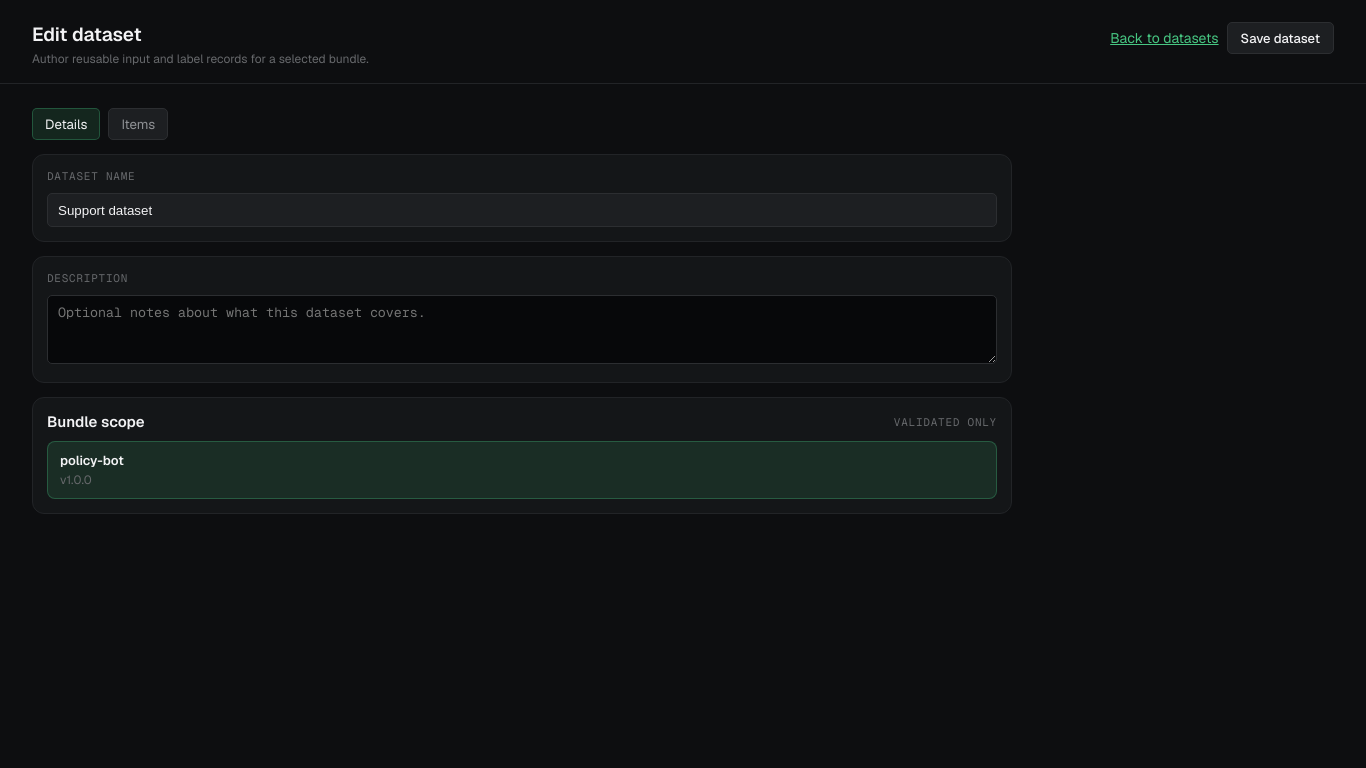
DatasetsPage › duplicates the selected dataset item in the editor
Click the tab "Items". click: click(138, 124)
box: [108,108,168,140]
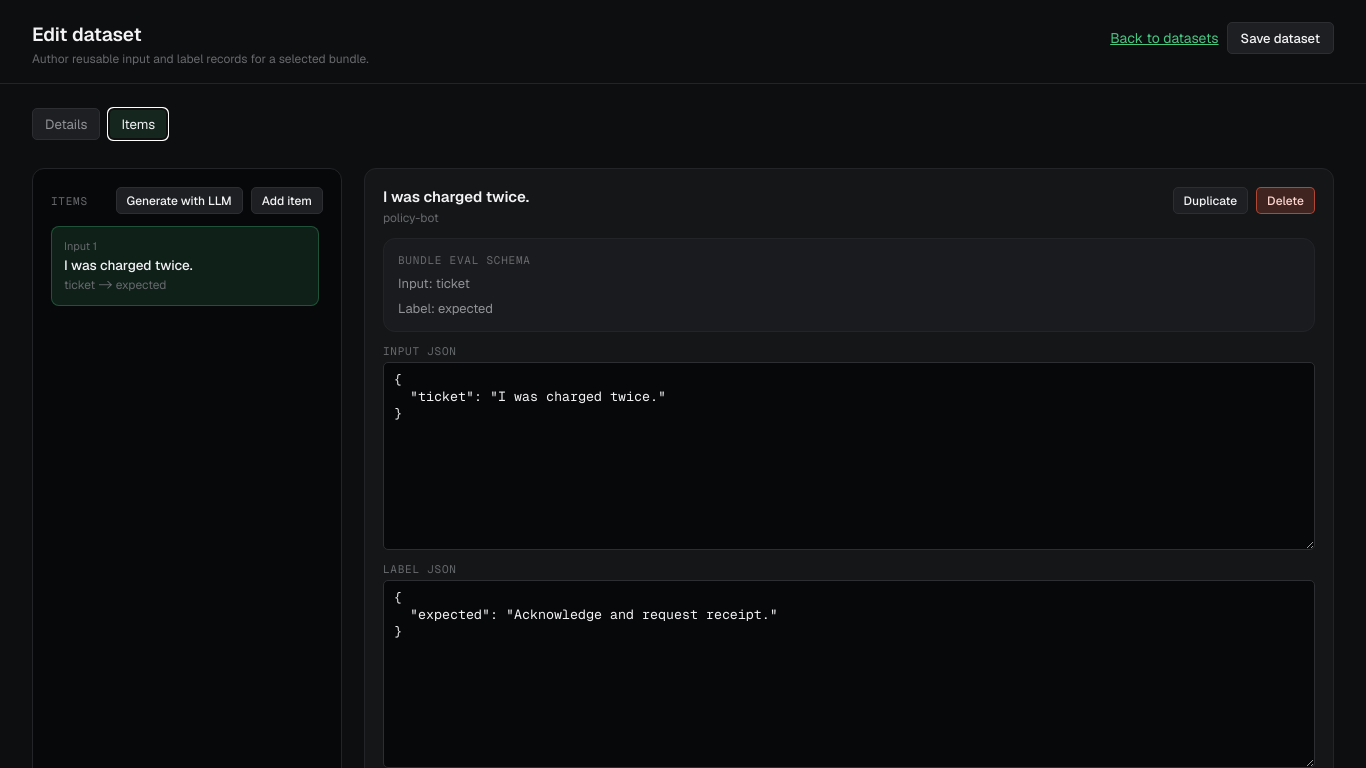
Expected: the text box showing "\"ticket\": \"I was charged twice.\"" below "Input JSON" is shown, [383,362,1315,550]
Click the button "Duplicate". click: click(1210, 200)
box: [1172,187,1248,214]
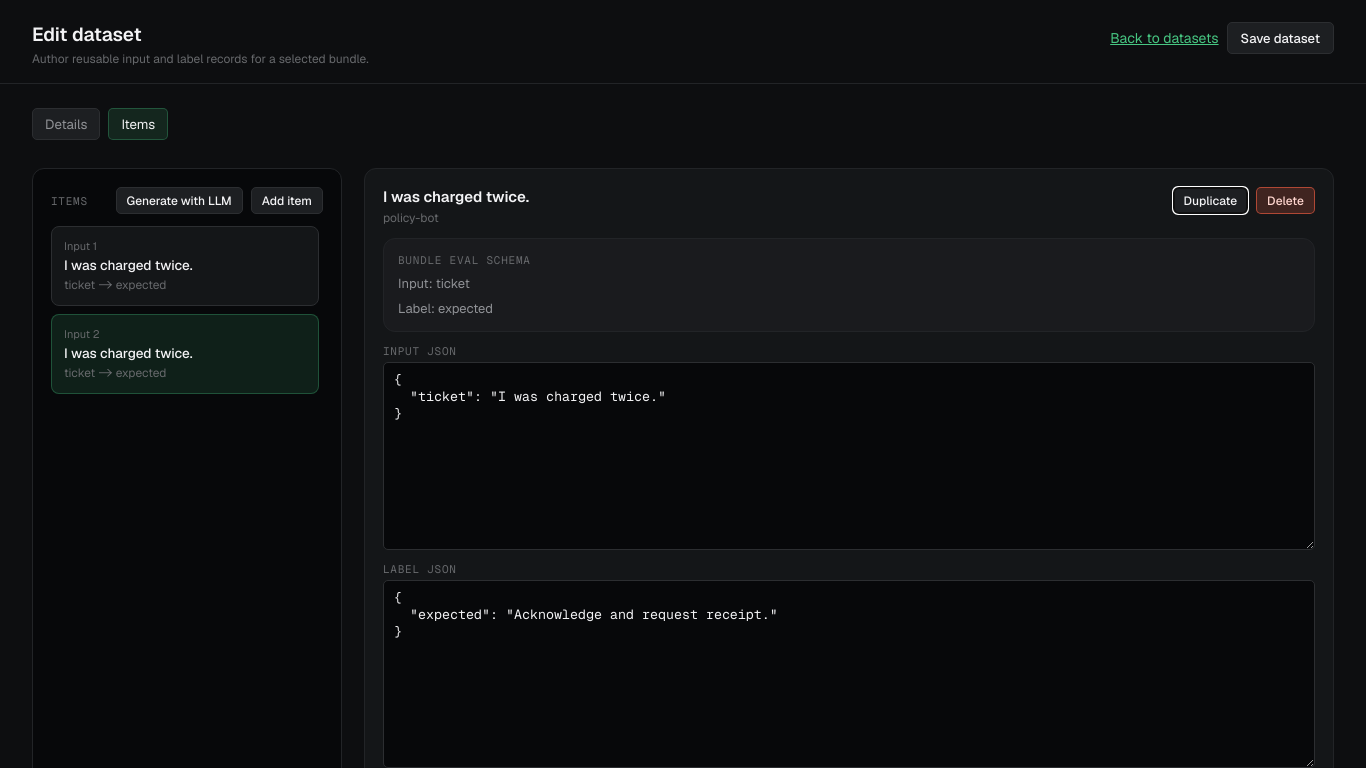
Expected: the text "Input 2" is shown, [64,327,100,341]
